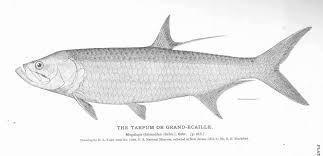Tenpounder: (16, 12, 311, 122)
